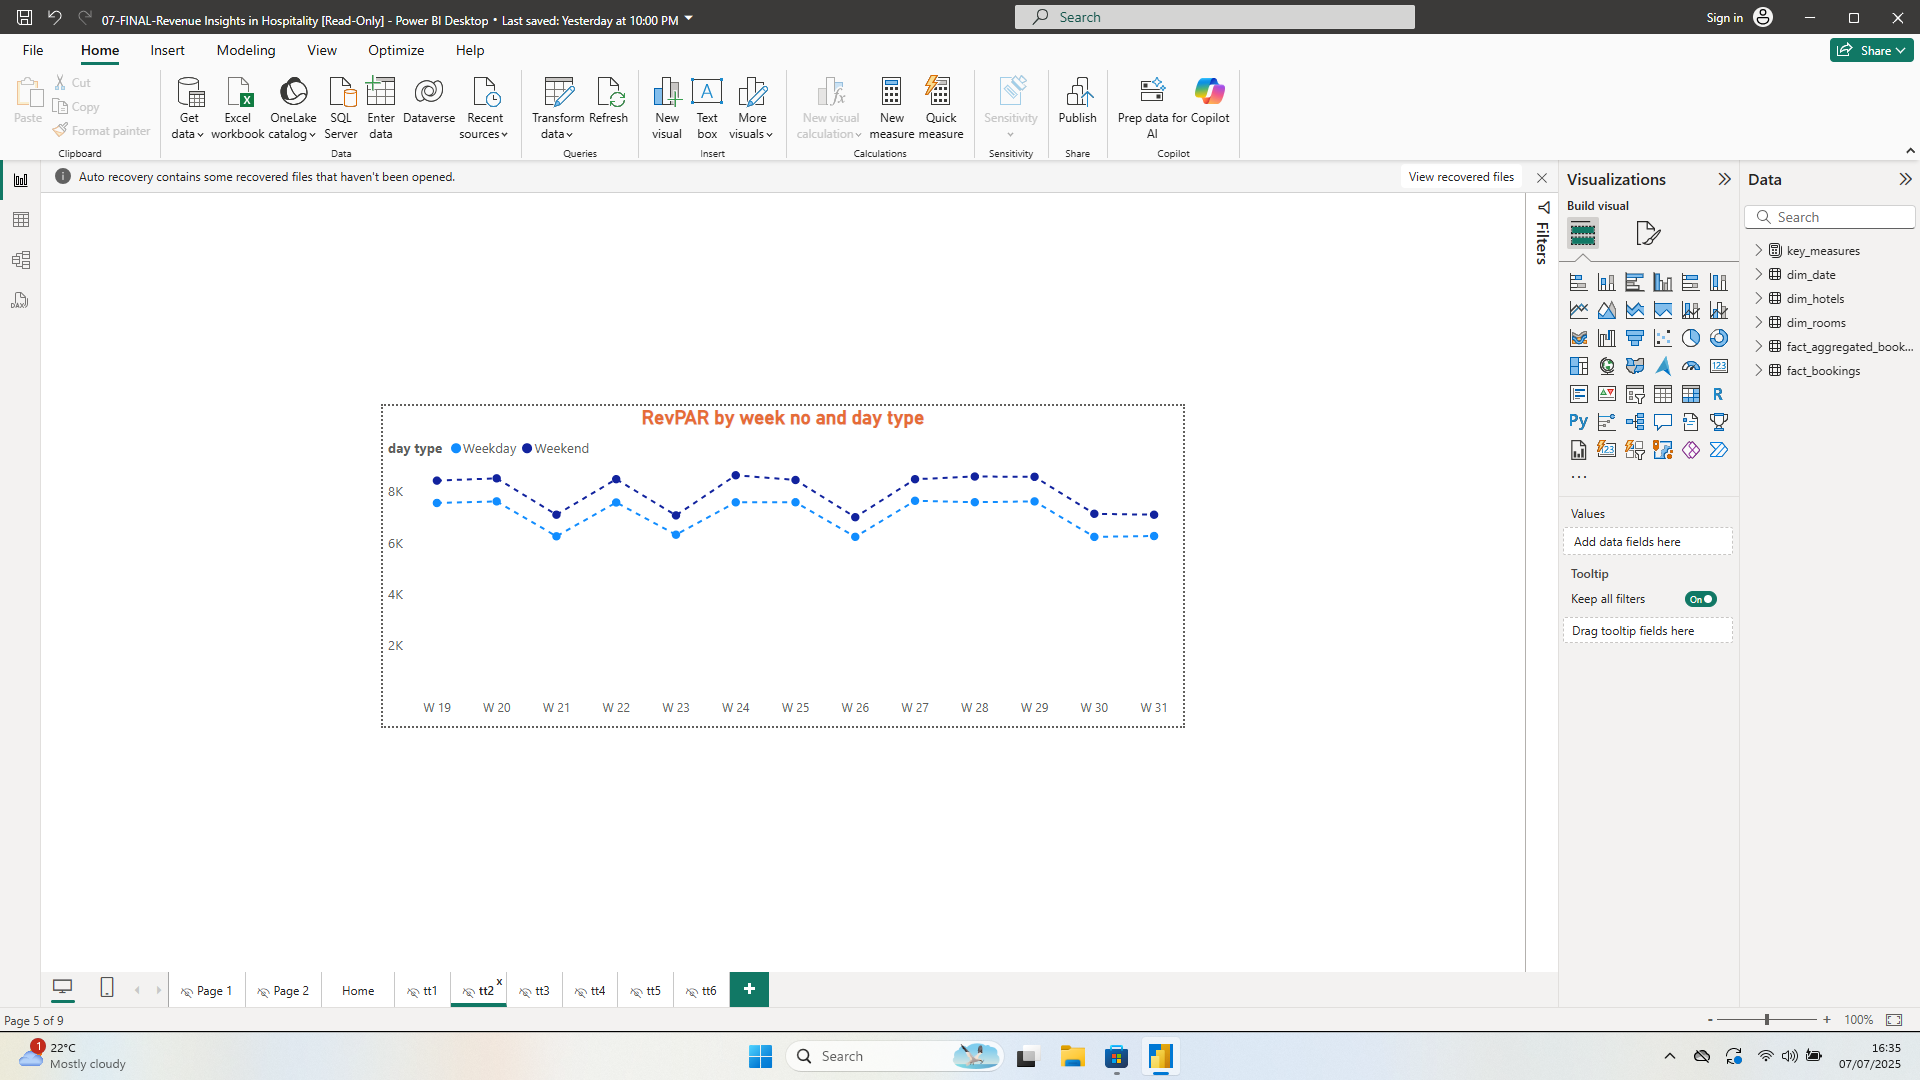

The dashboard page shown, as its layout file describes it:
{"tool":"powerbi","page":{"name":"tt2","canvas":[800,320],"ordinal":4},"visuals":[{"type":"lineChart","fields":{"Category":["dim_date.week no"],"Y":["key_measures.Rev PAR"],"Series":["dim_date.day type"]},"box":[0,0,800,320],"z":0}]}

Visuals, with their boxes on the page's 800x320 design canvas (x1, y1, x2, y2). These are canvas units, not pixel positions in the 1920x1080 screenshot, which may show the page scaled, cropped or inside an application window:
lineChart - dim_date.week no x key_measures.Rev PAR: (left=0, top=0, right=800, bottom=320)
